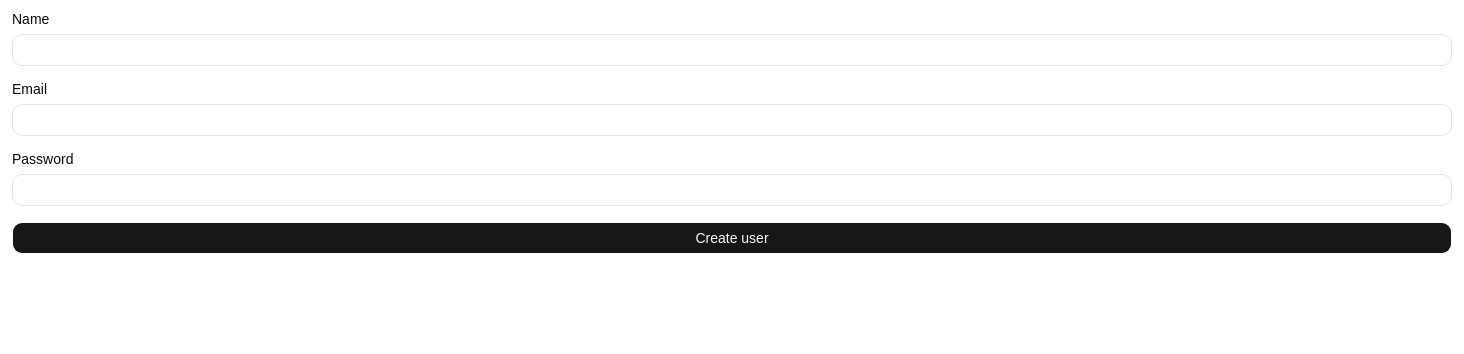
it: UserForm (create) › shows an error for every empty field and does not submit
This screenshot has width=1464, height=354.
Click the button "Create user": (732, 238) [12,222,1452,254]
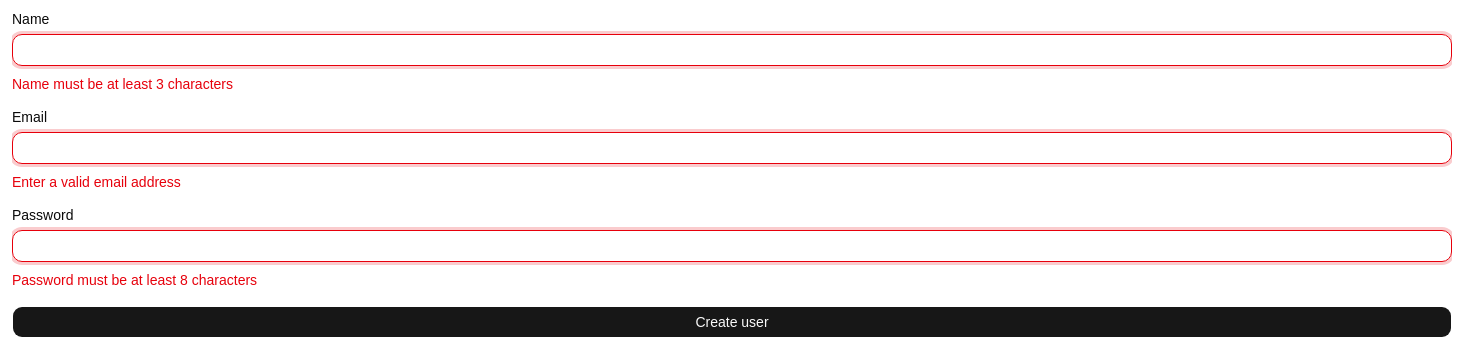
Now the text "Name must be at least 3 characters" is shown, box [12,76,233,92]
Now the text "Enter a valid email address" is shown, box [12,174,181,190]
Now the text "Password must be at least 8 characters" is shown, box [12,272,257,288]
